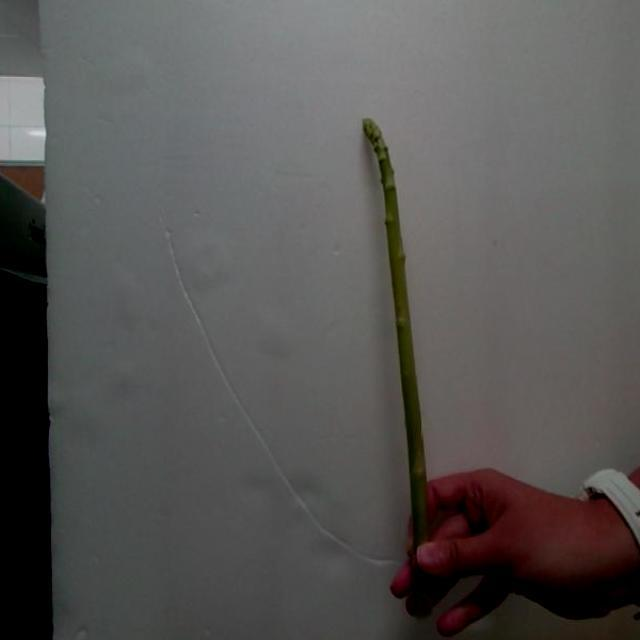aspargus: (361, 120, 428, 556)
